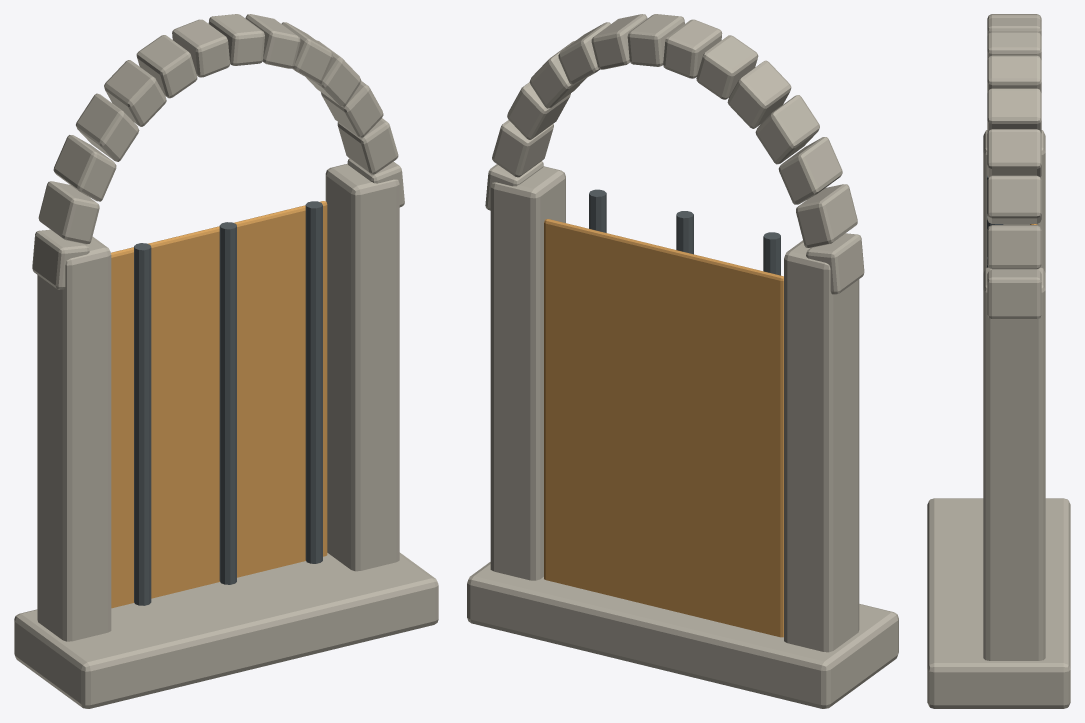
Rendered from stained_window_intact.glb.
3 views of the same model, side by side, from view 1: azimuth 30°, elevation 25°; view 2: azimuth 150°, elevation 25°; view 3: azimuth 270°, elevation 25° (orthographic). The views are drawn at different scales.
Visible parts, largest first — view 1: Body.037; view 2: Body.037; view 3: Body.037.
Boxes of the visible parts, x1,y1,x2,y2 form: Body.037: [14, 14, 438, 708]; Body.037: [467, 14, 898, 708]; Body.037: [927, 14, 1070, 708].
Bounding box in the file's own units: 1.04 × 1.7 × 0.37.
